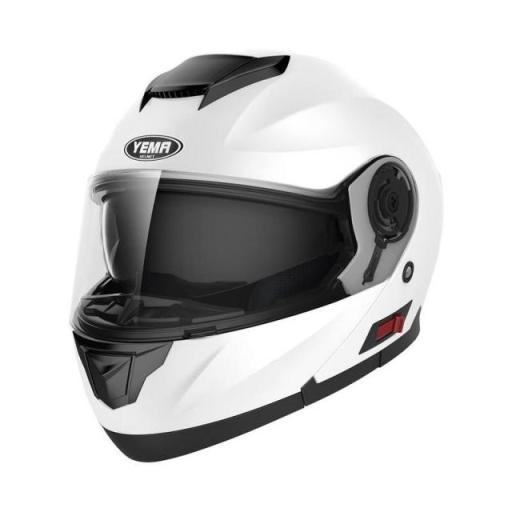Helmet: (68, 38, 448, 470)
